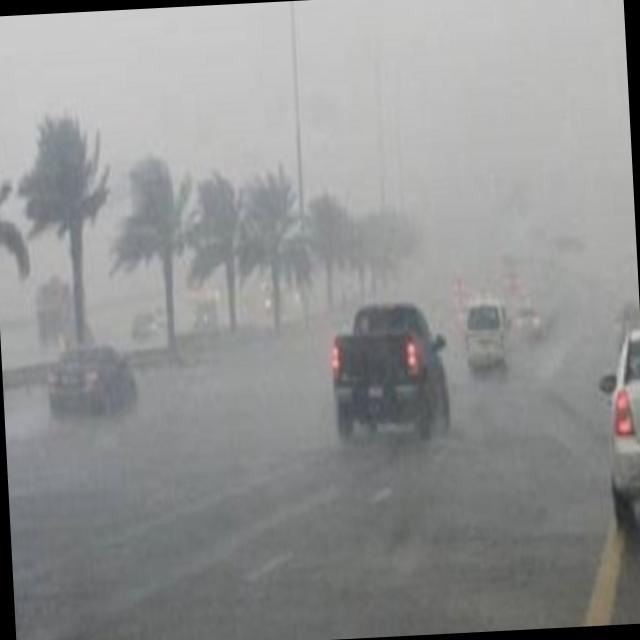car: (326, 299, 454, 449), (600, 324, 640, 531), (45, 341, 140, 422), (462, 300, 512, 377), (514, 305, 545, 346), (189, 303, 220, 330), (131, 313, 154, 340)
